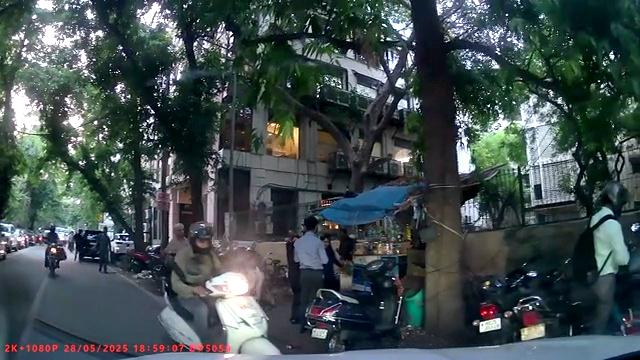motorcycle_with_helmet: (156, 221, 283, 351), (41, 223, 66, 278)
